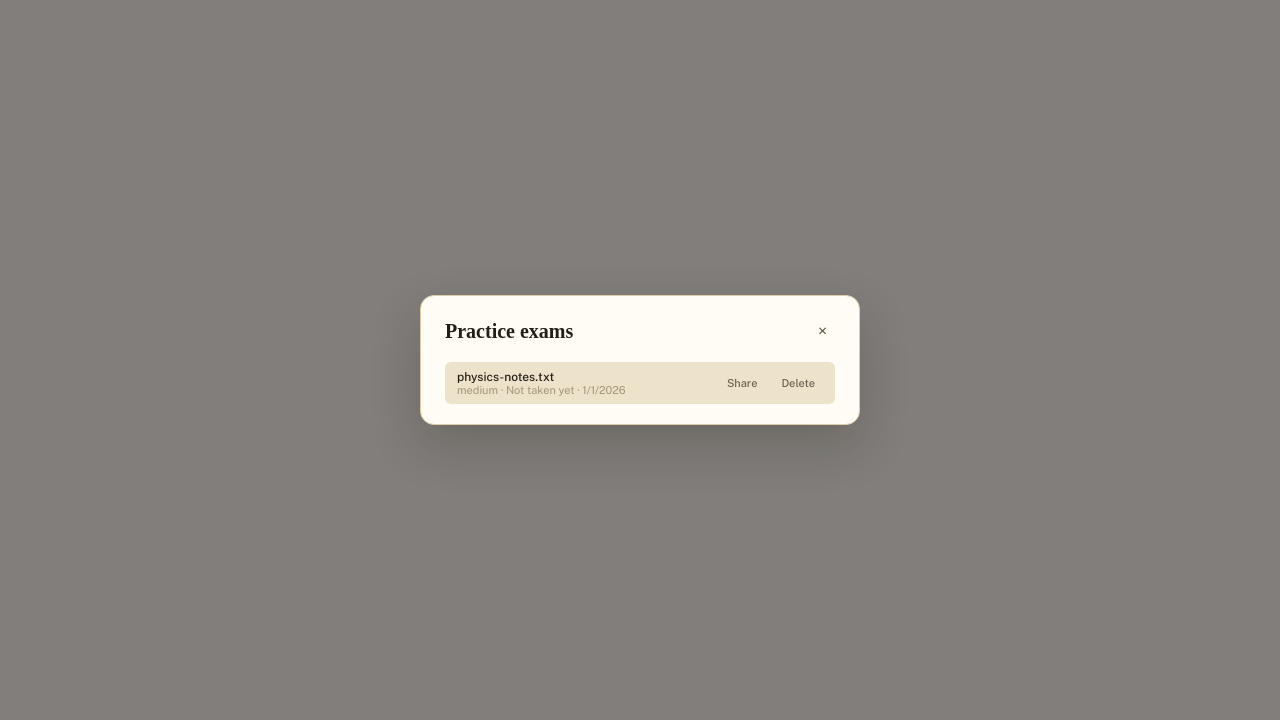
Test: PracticeExamsPanel › share link › swaps to a revoke action once shared, and really revokes
expect the text "physics-notes.txt" is shown: met, box [457,370,554,384]
Click the button with aria-label "share exam: physics-notes.txt". click: (742, 383)
box: [719,373,765,393]
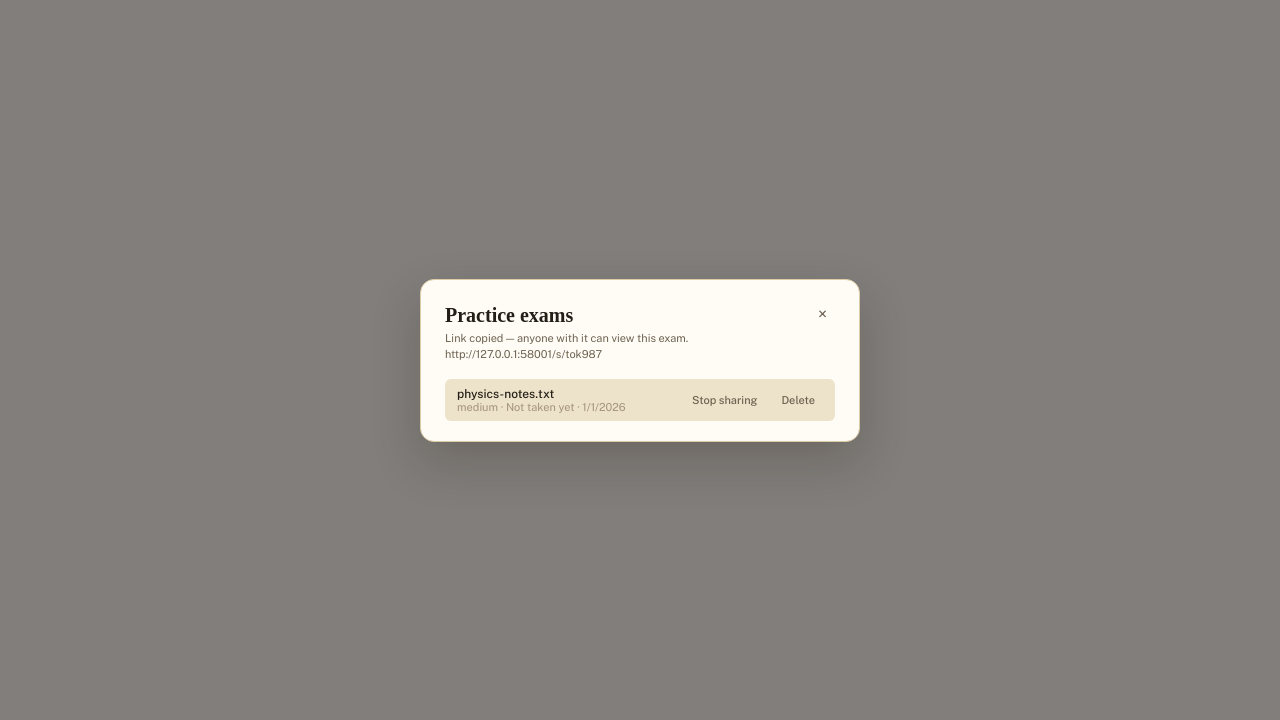
Click the button with aria-label "stop sharing exam". click: (725, 400)
box: [684,390,765,410]
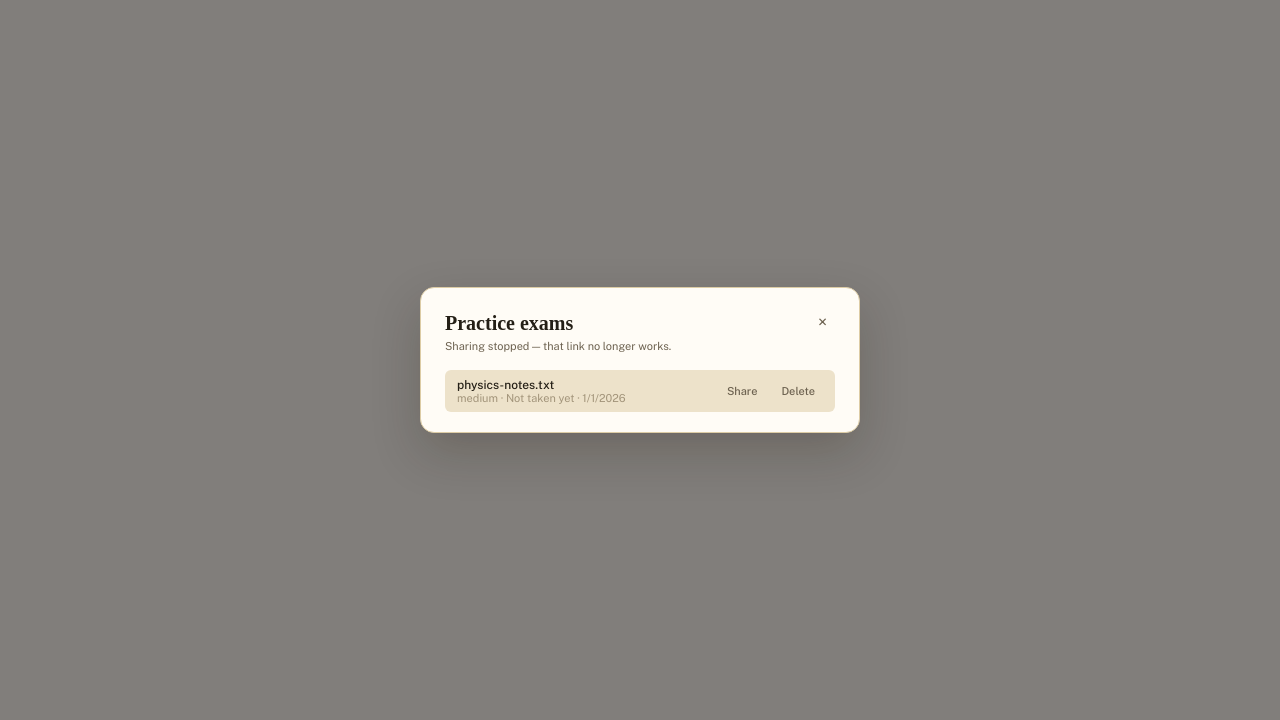
expect the text "Sharing stopped — that link no longer works." is shown: met, box [445,340,671,352]
